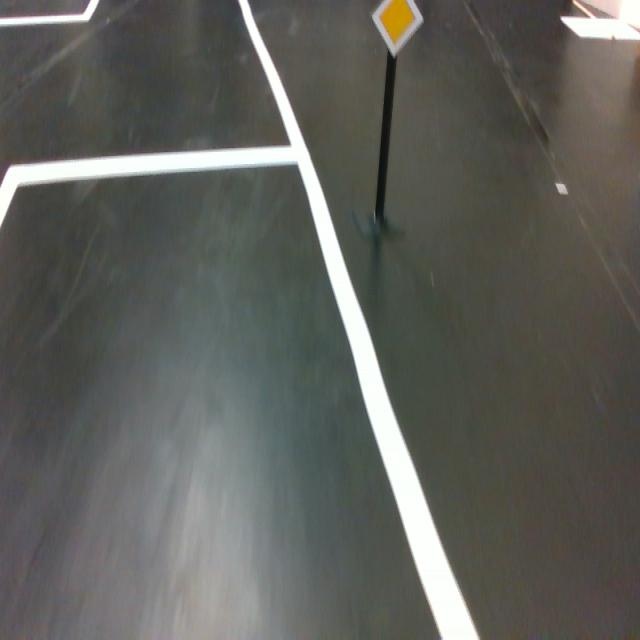priority-sign: (372, 0, 424, 59)
